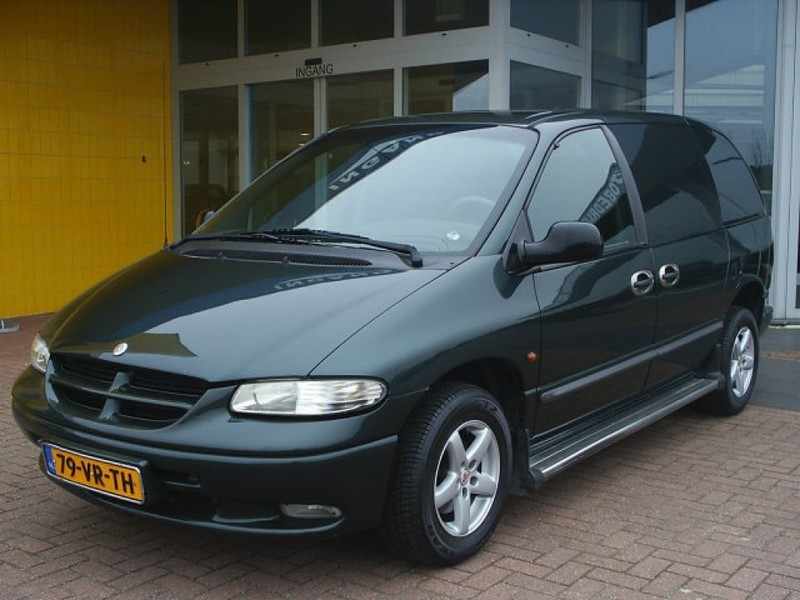kenteken: (38, 444, 145, 511)
